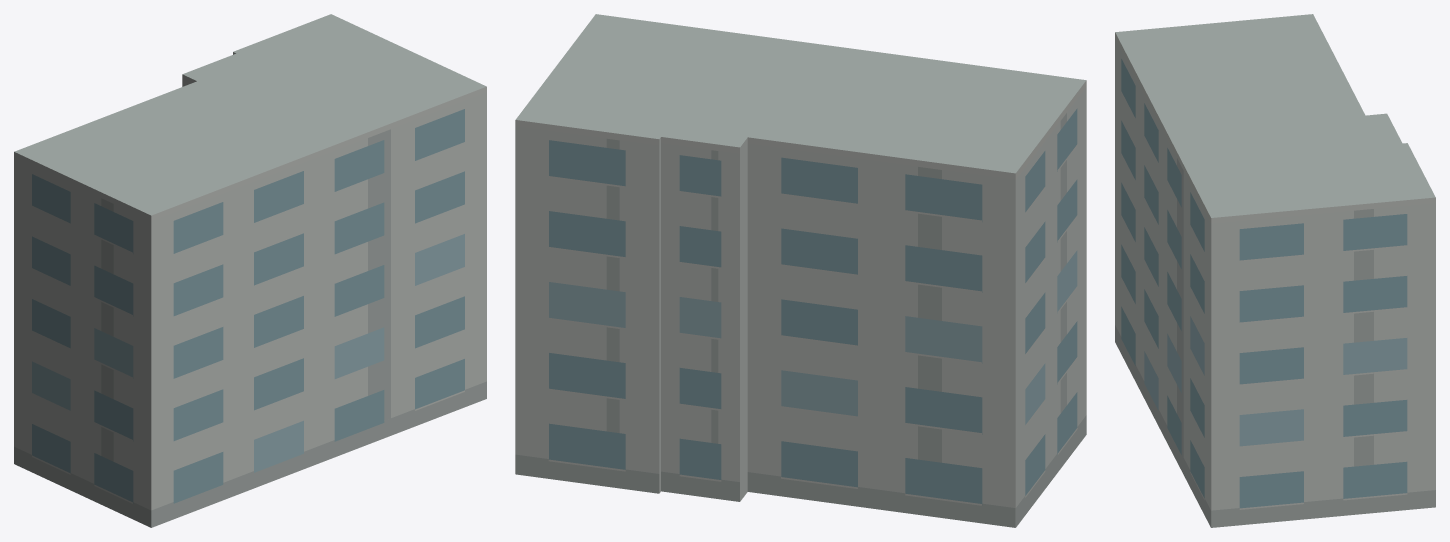
File: survey-upis-32614776.glb
3 views of the same model, side by side, from view 1: azimuth 30°, elevation 25°; view 2: azimuth 150°, elevation 25°; view 3: azimuth 270°, elevation 25° (orthographic). The views are drawn at different scales.
Visible parts, largest first — view 1: survey-upis-32614776.tmp; view 2: survey-upis-32614776.tmp; view 3: survey-upis-32614776.tmp.
Part boxes in pixels (x1,y1,x2,y2): survey-upis-32614776.tmp: (14,14,486,527); survey-upis-32614776.tmp: (515,14,1086,527); survey-upis-32614776.tmp: (1115,14,1435,527).
Size of the model in its own units: 18.65 by 13.2 by 12.39.
